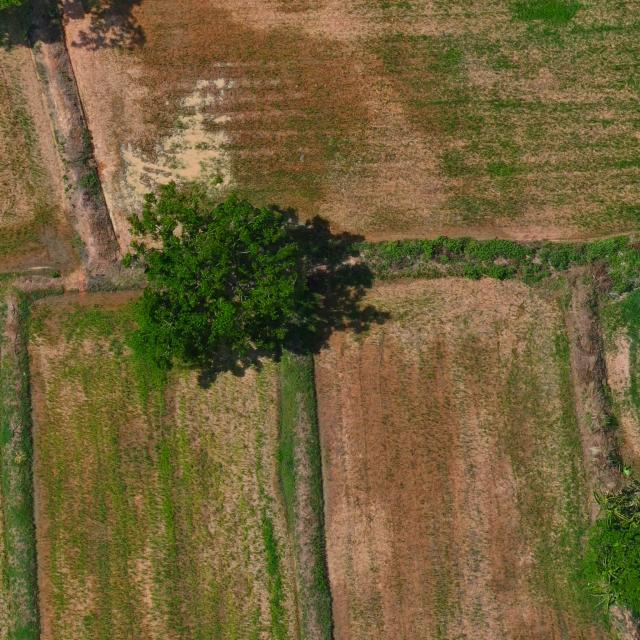Tree: (118, 181, 322, 368)
